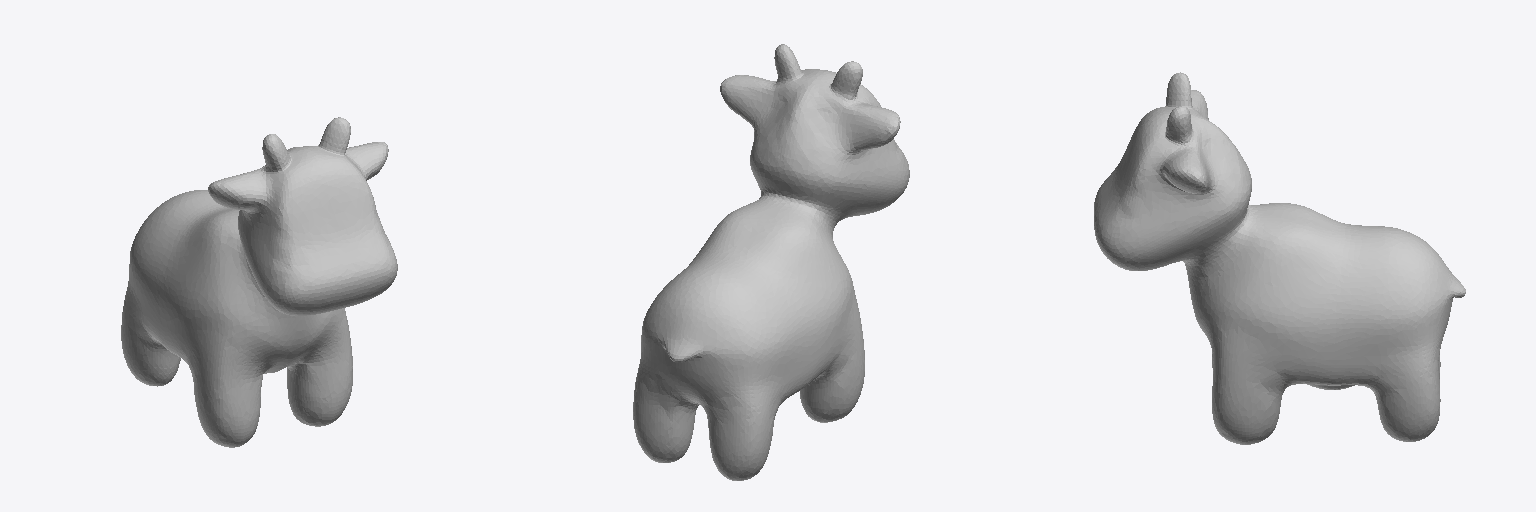
File: cow3.obj
The picture shows the model from 3 angles: view 1: azimuth 30°, elevation 25°; view 2: azimuth 150°, elevation 25°; view 3: azimuth 270°, elevation 25°; orthographic projection.
Size of the model in its own units: 0.9431 by 1.69 by 1.72.